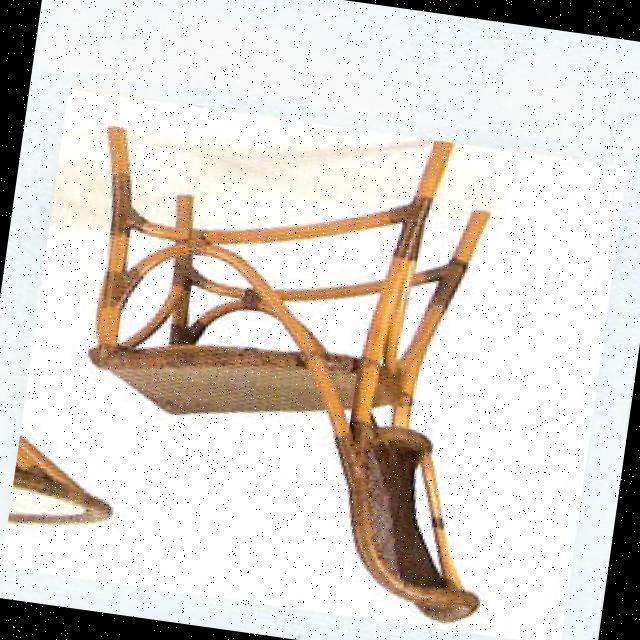Chair: (31, 61, 570, 628)
